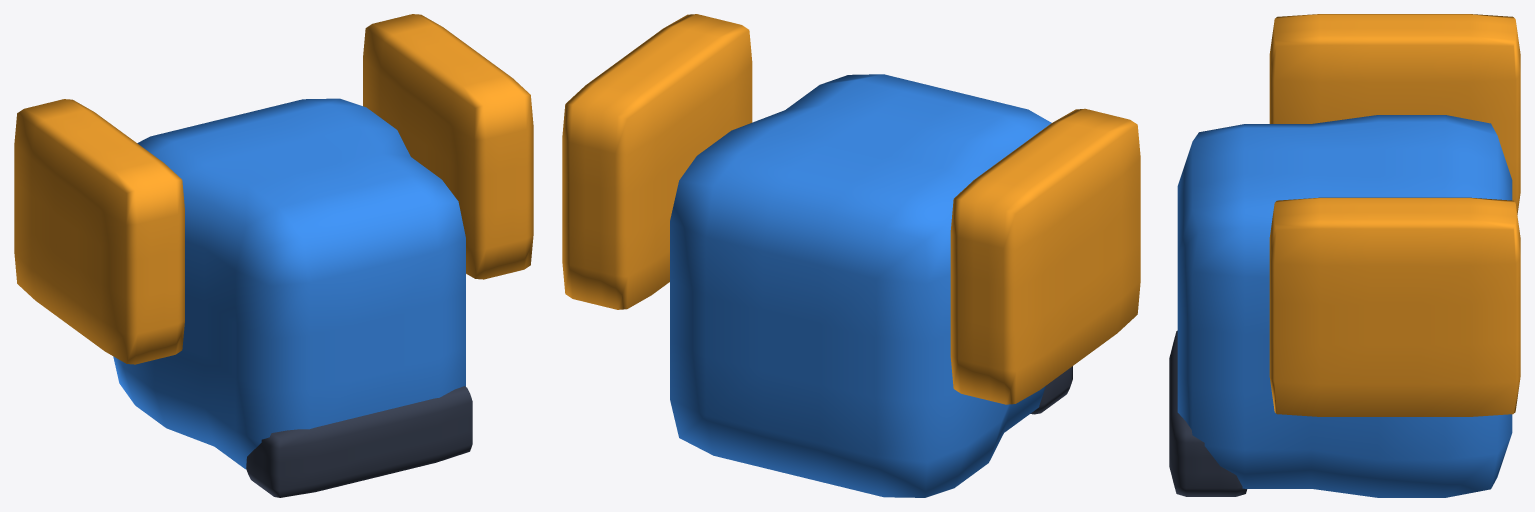
Rendered from head_valkyrie.obj.
3 renders of one model, left to right at view 1: azimuth 30°, elevation 25°; view 2: azimuth 150°, elevation 25°; view 3: azimuth 270°, elevation 25°, orthographic. The views are drawn at different scales.
Bounding box in the file's own units: 0.62 × 0.44 × 0.42.
